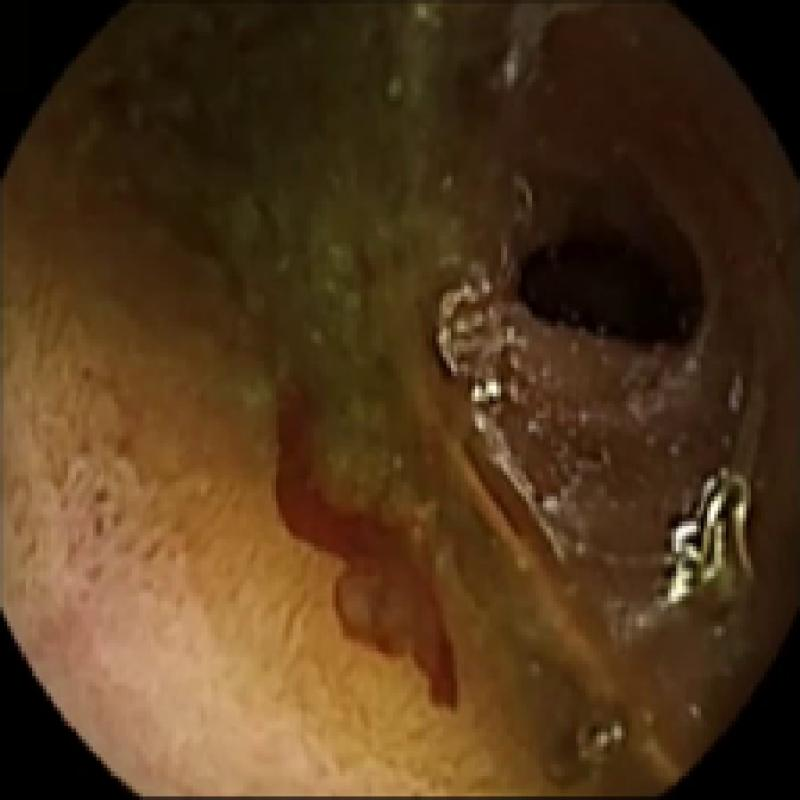bleeding: (278, 407, 460, 704)
